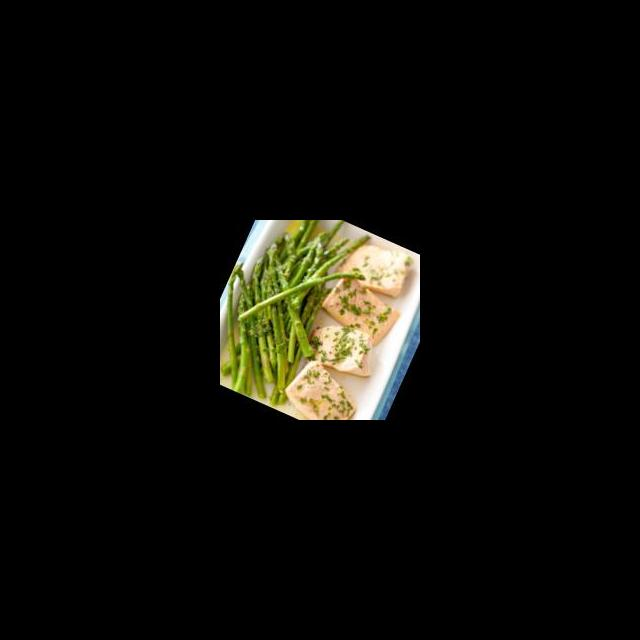ca hoi: (310, 272, 410, 351), (299, 312, 388, 389), (274, 354, 370, 420), (342, 231, 418, 300)
